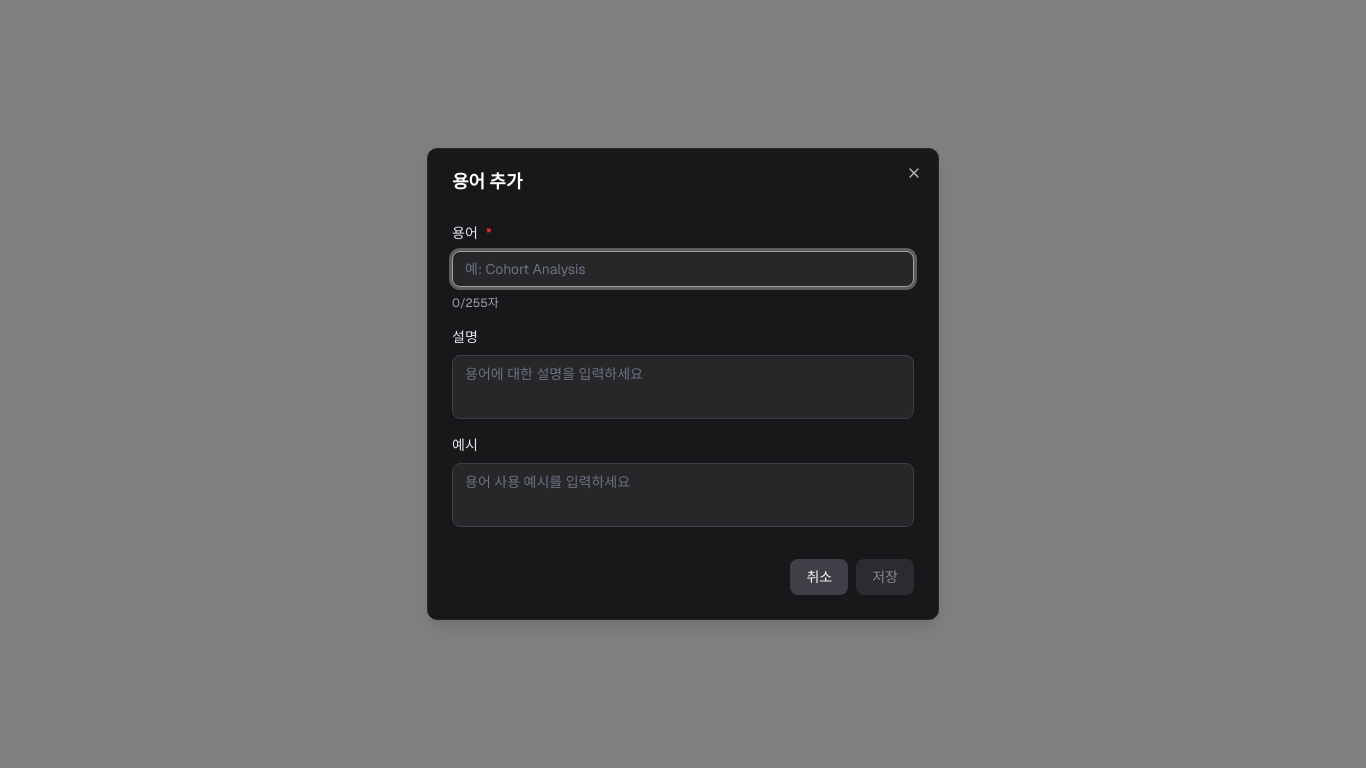
it: NoteEditModal › 폼 입력 › 용어 글자 수를 표시한다
Expected: the text "0/255자" is shown, [452,295,499,311]
Type "Test" into the field with placeholder "예: Cohort Analysis" at (683, 269), box [452,251,914,287]
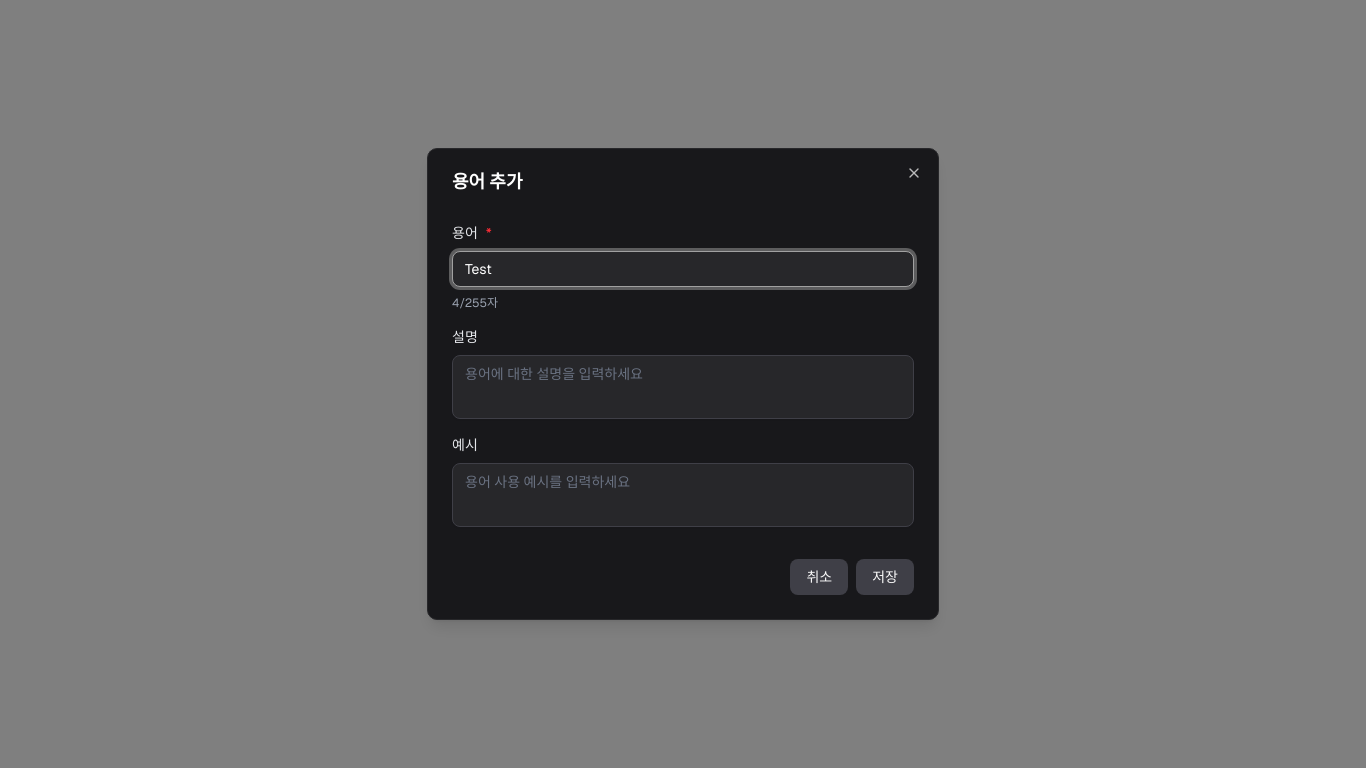
Now the text "4/255자" is shown, box [452,295,498,311]
